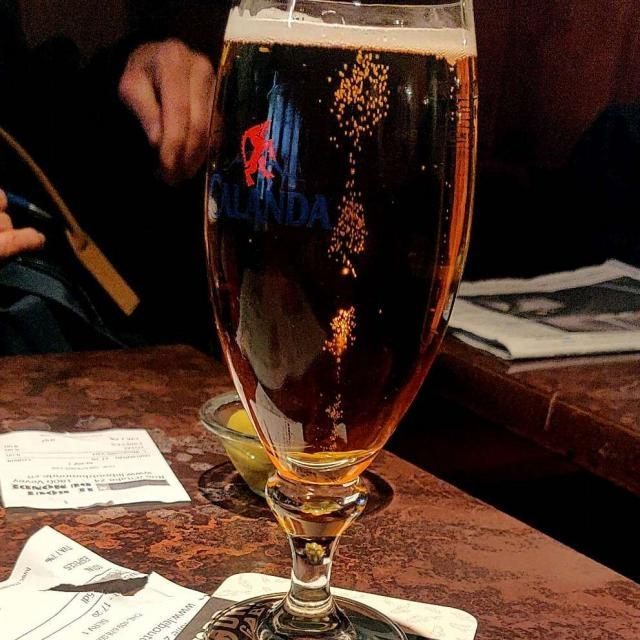beer: (212, 11, 473, 498)
